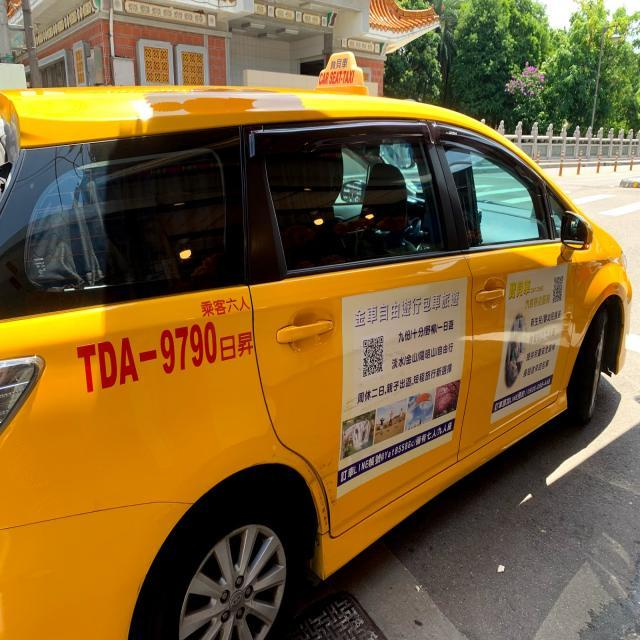taxi: (8, 40, 640, 623)
